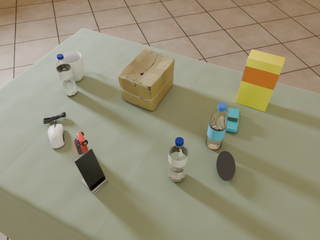bottle: (206, 102, 228, 149), (56, 54, 78, 96), (168, 137, 188, 182)
box: (118, 48, 175, 111), (236, 50, 285, 111)
cup: (63, 51, 84, 81)
mouse: (217, 151, 235, 181), (48, 124, 65, 148)
phone: (75, 149, 106, 190)
toy_car: (73, 132, 88, 155), (226, 108, 240, 132)
